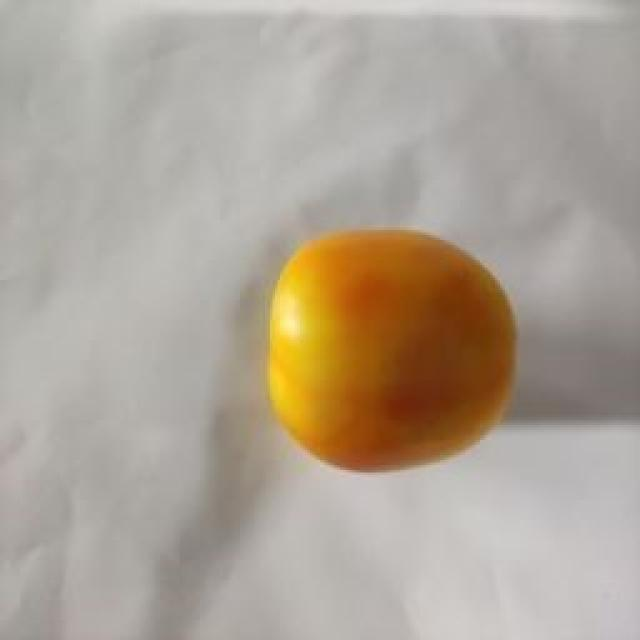unripe: (148, 92, 470, 390)
